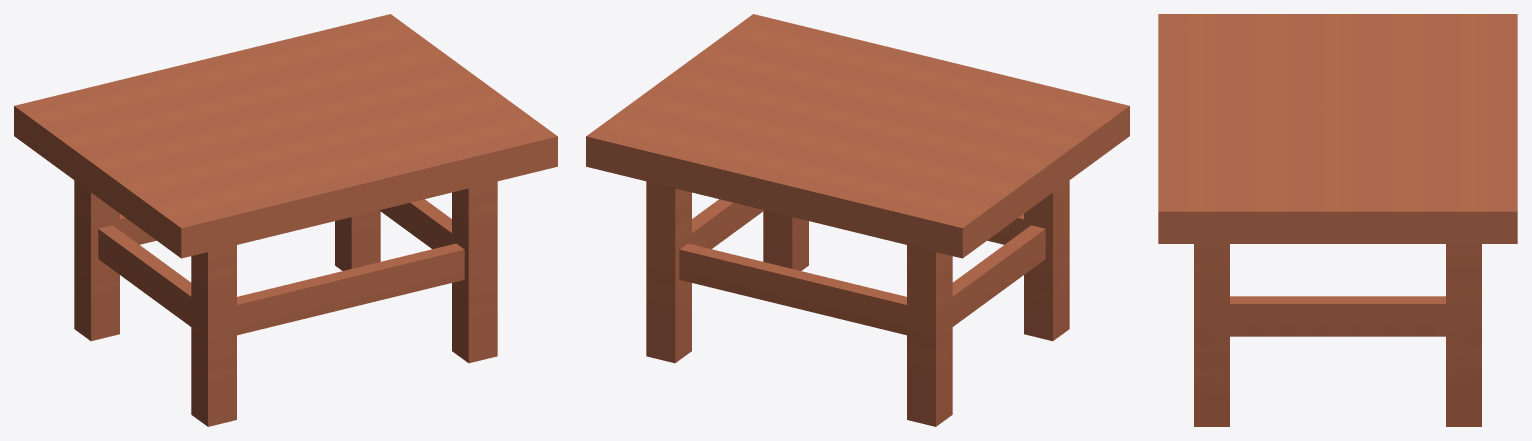
The model's file is stall-short.fbx.
The picture shows the model from 3 angles, left to right: view 1: azimuth 30°, elevation 25°; view 2: azimuth 150°, elevation 25°; view 3: azimuth 270°, elevation 25°; orthographic projection. The views are drawn at different scales.
Visible parts, largest first — view 1: stall-short; view 2: stall-short; view 3: stall-short.
Boxes of the visible parts, left/top/right/bottom form: stall-short: left=14, top=14, right=557, bottom=426; stall-short: left=586, top=14, right=1129, bottom=426; stall-short: left=1158, top=14, right=1517, bottom=426.
Bounding box in the file's own units: 0.65 × 0.5 × 0.3655.
